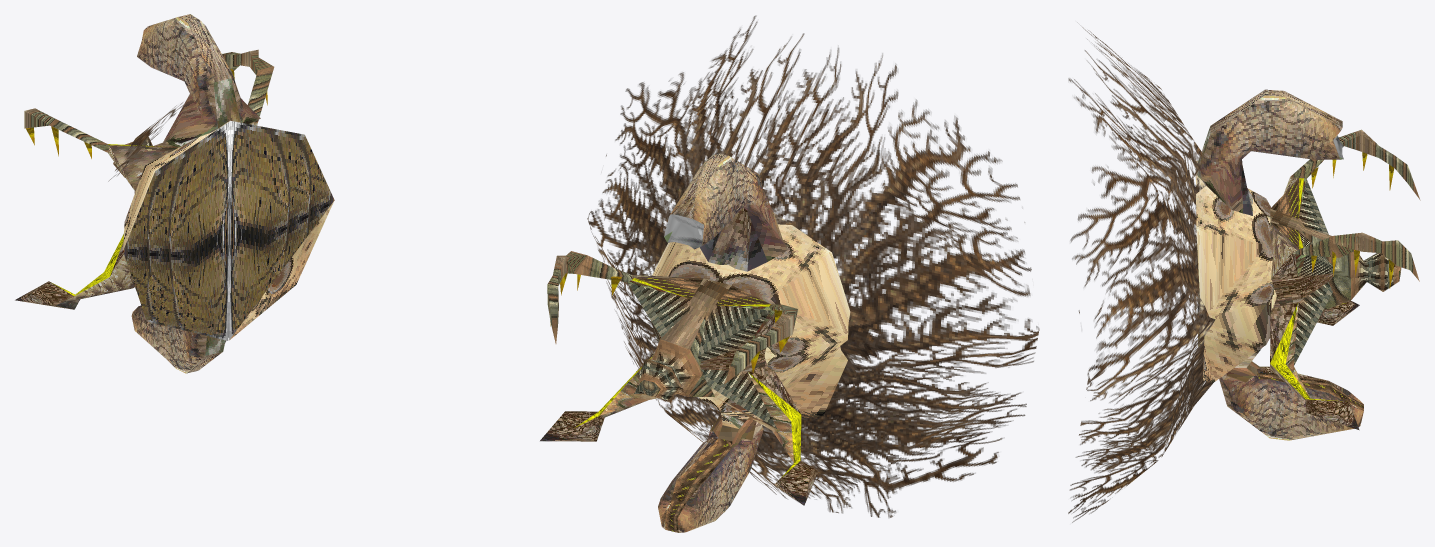
Rendered from mdissection_cmp.gltf.
3 renders of one model, left to right at view 1: azimuth 30°, elevation 25°; view 2: azimuth 150°, elevation 25°; view 3: azimuth 270°, elevation 25°, orthographic. The views are drawn at different scales.
Parts seen in each view (by area): view 1: Root, roots; view 2: roots, Root; view 3: Root, roots.
Part boxes in pixels (box(x1,y1,x2,y2)): Root: box(15, 14, 334, 373); roots: box(108, 75, 215, 181); roots: box(587, 15, 1039, 518); Root: box(540, 152, 850, 532); Root: box(1195, 89, 1420, 440); roots: box(1068, 22, 1215, 522).
Bounding box in the file's own units: 38.99 × 38.99 × 27.21.
8 materials, 8 textured.
